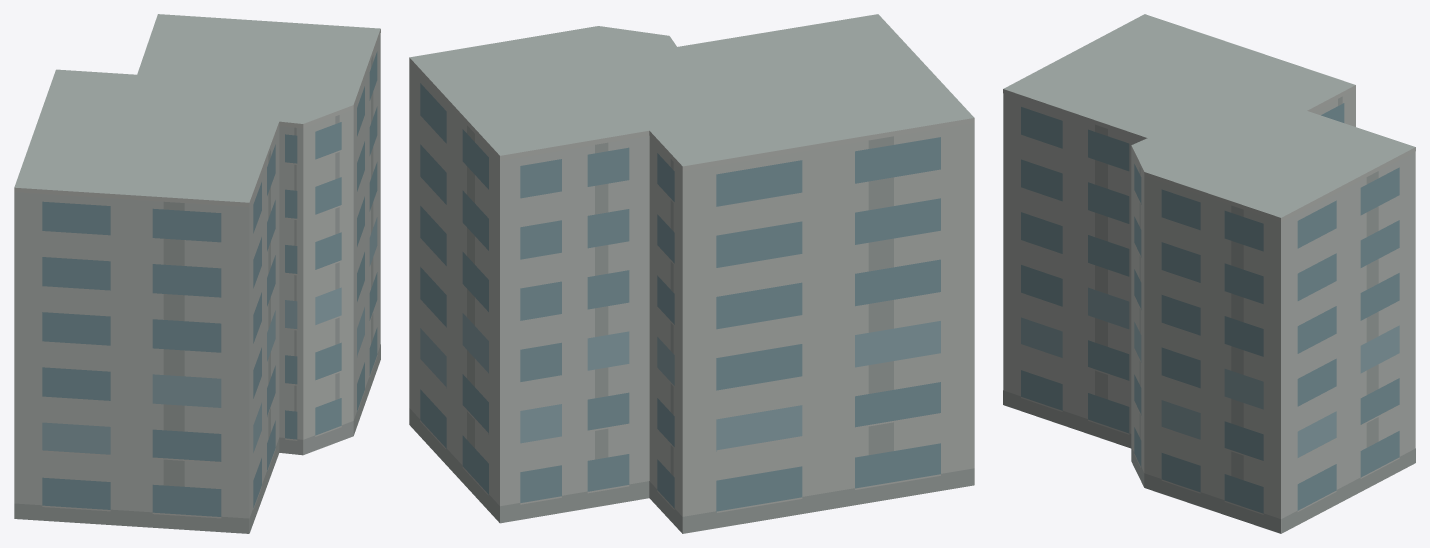
File: survey-upis-32835872.glb
The picture shows the model from 3 angles, left to right: view 1: azimuth 30°, elevation 25°; view 2: azimuth 150°, elevation 25°; view 3: azimuth 270°, elevation 25°; orthographic projection. The views are drawn at different scales.
Visible parts, largest first — view 1: survey-upis-32835872.tmp; view 2: survey-upis-32835872.tmp; view 3: survey-upis-32835872.tmp.
Boxes of the visible parts, x1,y1,x2,y2 form: survey-upis-32835872.tmp: (14, 14, 380, 533); survey-upis-32835872.tmp: (409, 14, 974, 533); survey-upis-32835872.tmp: (1003, 14, 1415, 533).
Size of the model in its own units: 24.78 by 17.9 by 21.19.
